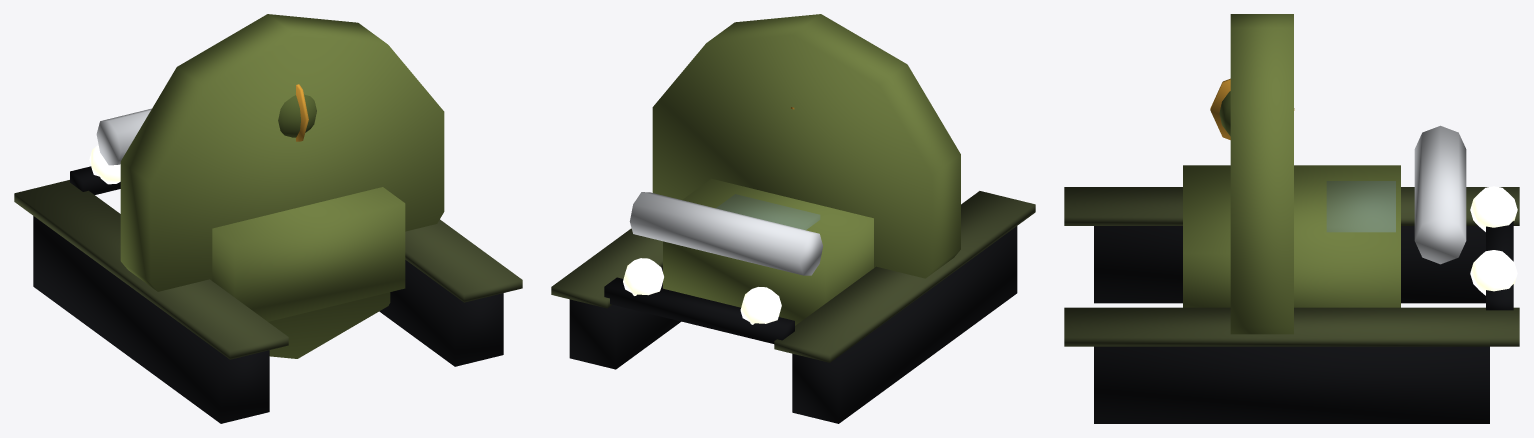
Rendered from tanque_raw.glb.
3 renders of one model, left to right at view 1: azimuth 30°, elevation 25°; view 2: azimuth 150°, elevation 25°; view 3: azimuth 270°, elevation 25°, orthographic. The views are drawn at different scales.
Parts seen in each view (by area): view 1: Tanque; view 2: Tanque; view 3: Tanque.
Part boxes in pixels (x1,y1,x2,y2): Tanque: (14, 14, 522, 423); Tanque: (551, 14, 1035, 423); Tanque: (1064, 14, 1519, 423).
Size of the model in its own units: 1.81 by 1.9 by 2.3.
